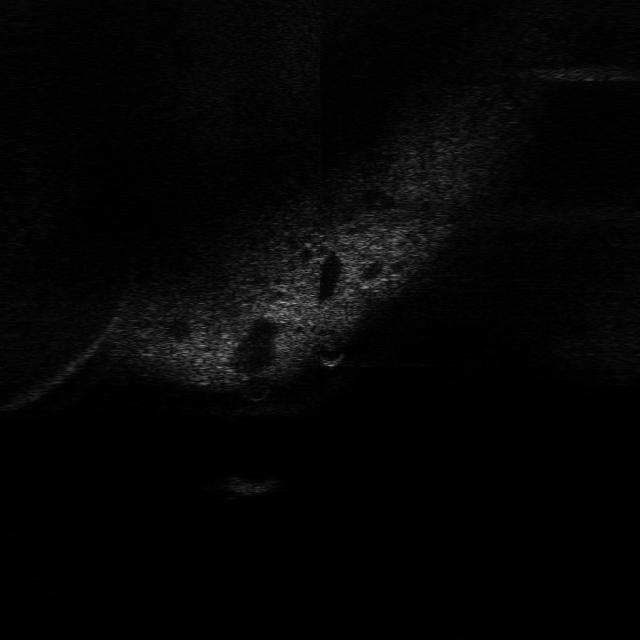ball: (312, 338, 348, 369)
cube: (219, 472, 282, 498)
